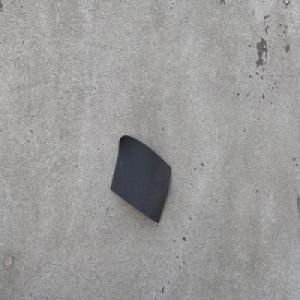PaintChip: (109, 133, 173, 226)
